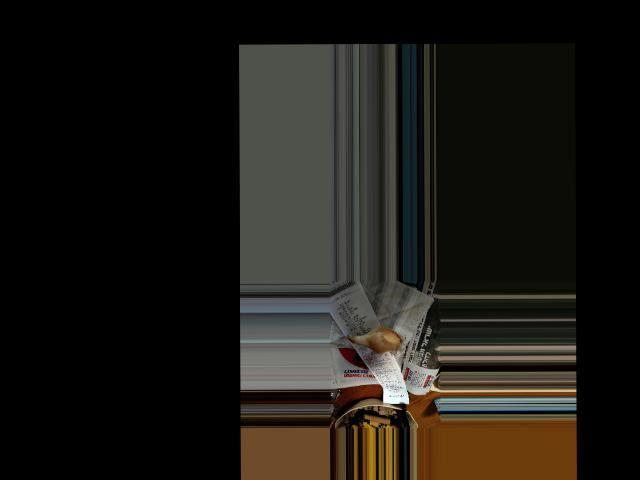onion: (363, 327, 405, 350)
